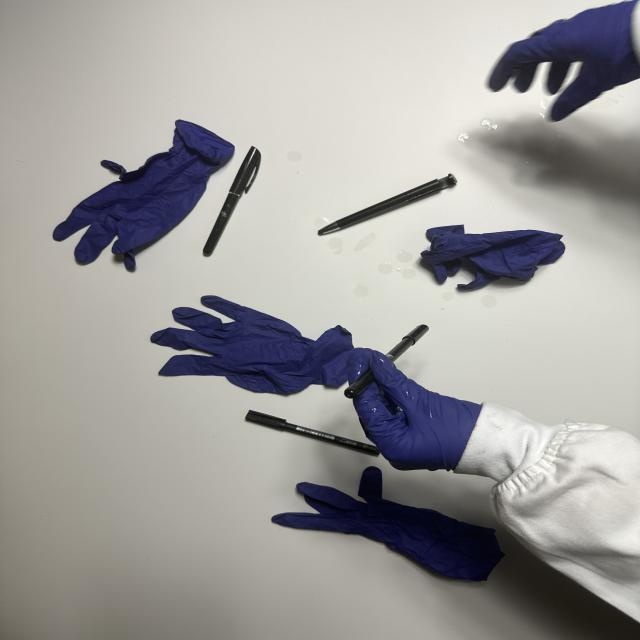glove_on: (488, 0, 639, 121)
gloves_contaminated: (348, 349, 482, 470)
